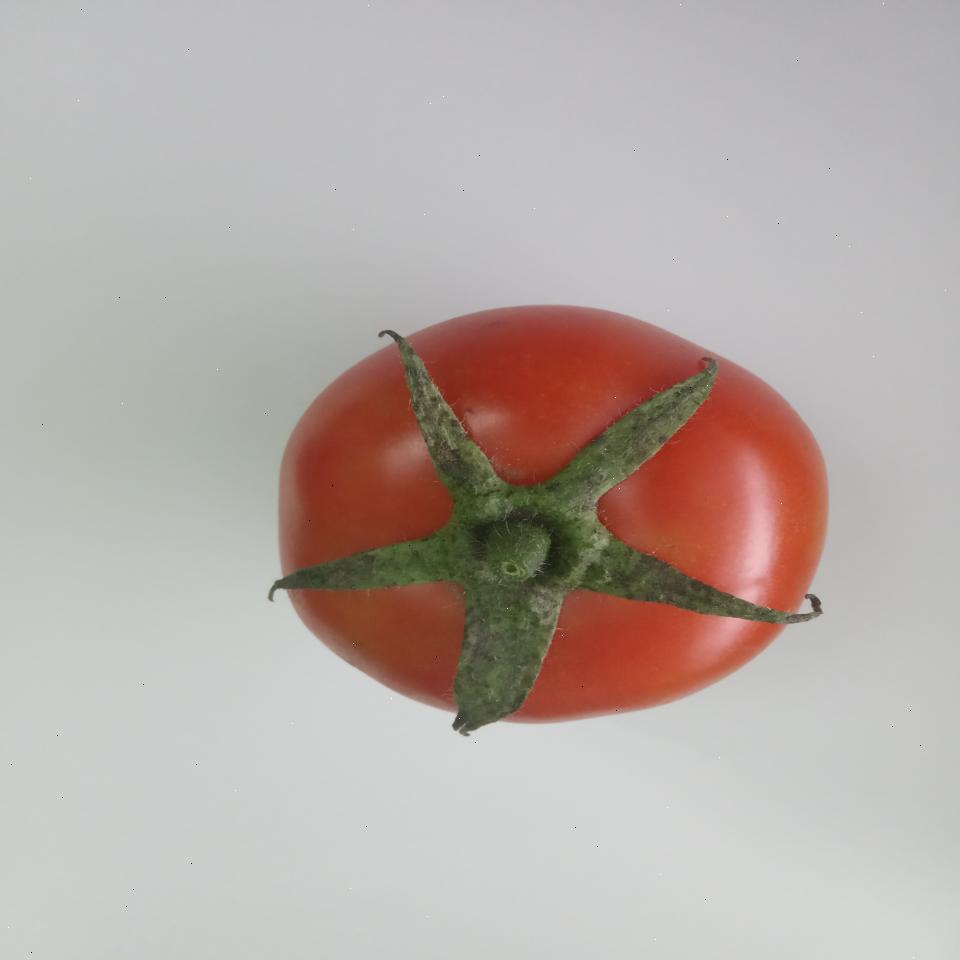Healthy: (259, 299, 837, 737)
